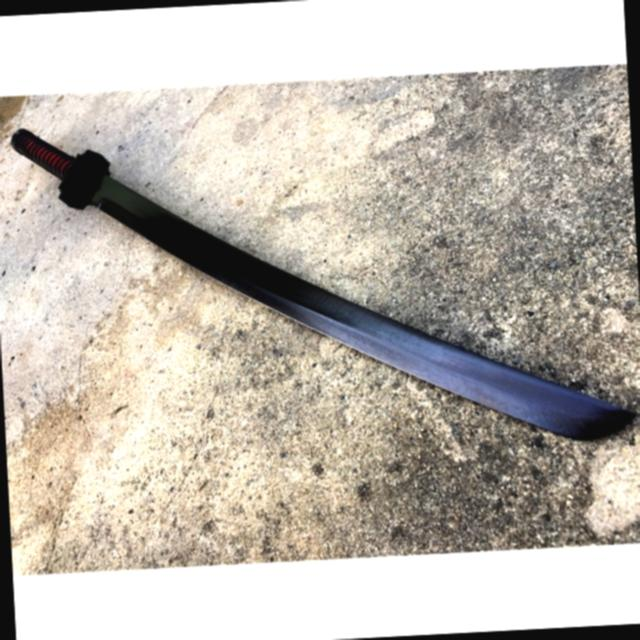long sword: (6, 93, 640, 468)
